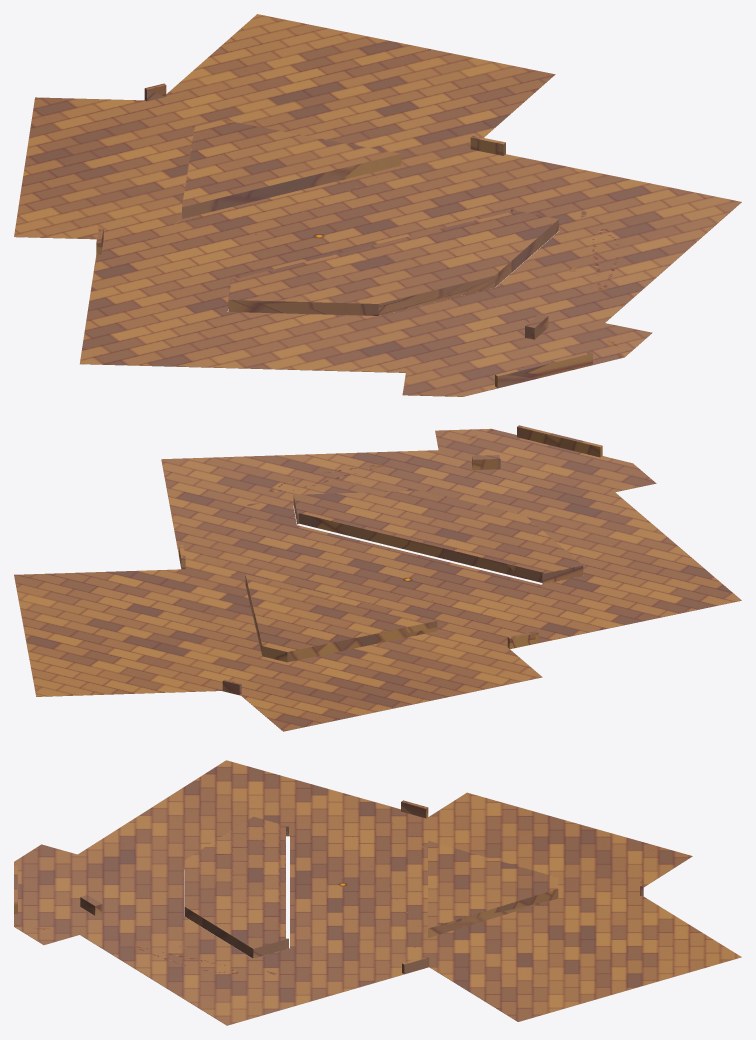
Rendered from plano_piso.dae.
3 renders of one model, top to bottom at view 1: azimuth 30°, elevation 25°; view 2: azimuth 150°, elevation 25°; view 3: azimuth 270°, elevation 25°, orthographic. The views are drawn at different scales.
Parts seen in each view (by area): view 1: piso; view 2: piso; view 3: piso.
Boxes of the visible parts, x1=… form: piso: x1=14, y1=14, x2=741, y2=396; piso: x1=14, y1=425, x2=741, y2=731; piso: x1=14, y1=760, x2=741, y2=1025.
Size of the model in its own units: 28.91 by 33.51 by 0.5.
1 material, 1 textured.
